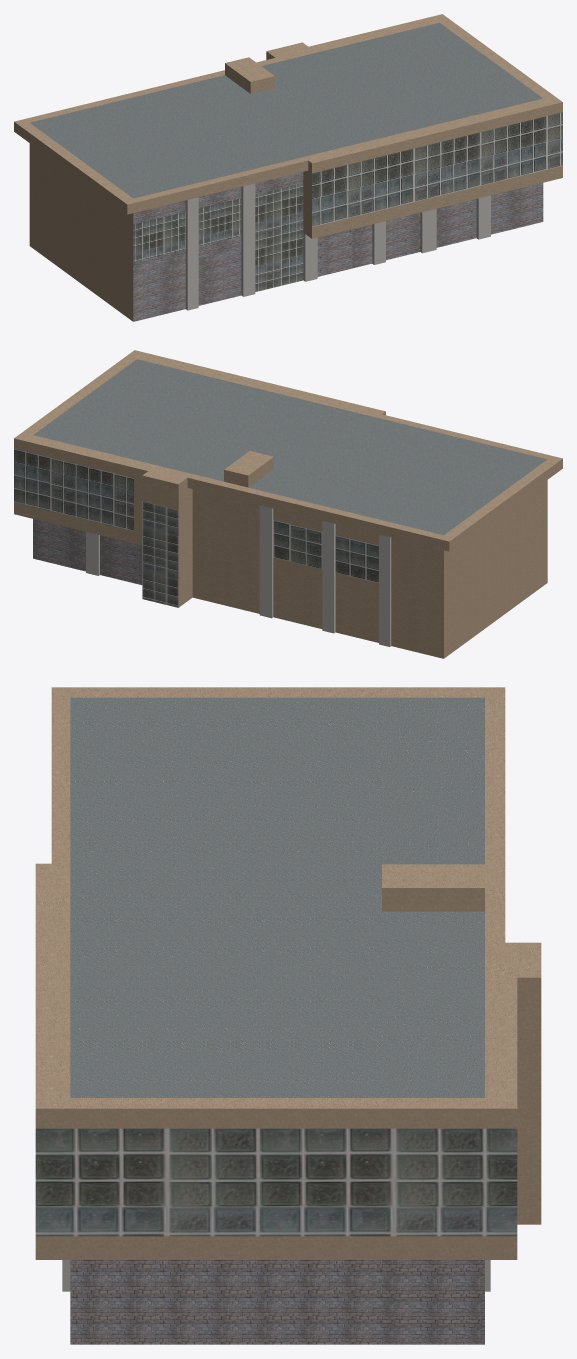
The model's file is library.fbx.
The picture shows the model from 3 angles, top to bottom: view 1: azimuth 30°, elevation 25°; view 2: azimuth 150°, elevation 25°; view 3: azimuth 270°, elevation 25°; orthographic projection. The views are drawn at different scales.
Visible parts, largest first — view 1: Cube; view 2: Cube; view 3: Cube.
Part boxes in pixels (bbox=[...]): Cube: bbox=[14, 14, 562, 321]; Cube: bbox=[14, 350, 562, 658]; Cube: bbox=[35, 687, 541, 1344].
Bounding box in the file's own units: 3152 × 944 × 1598.
